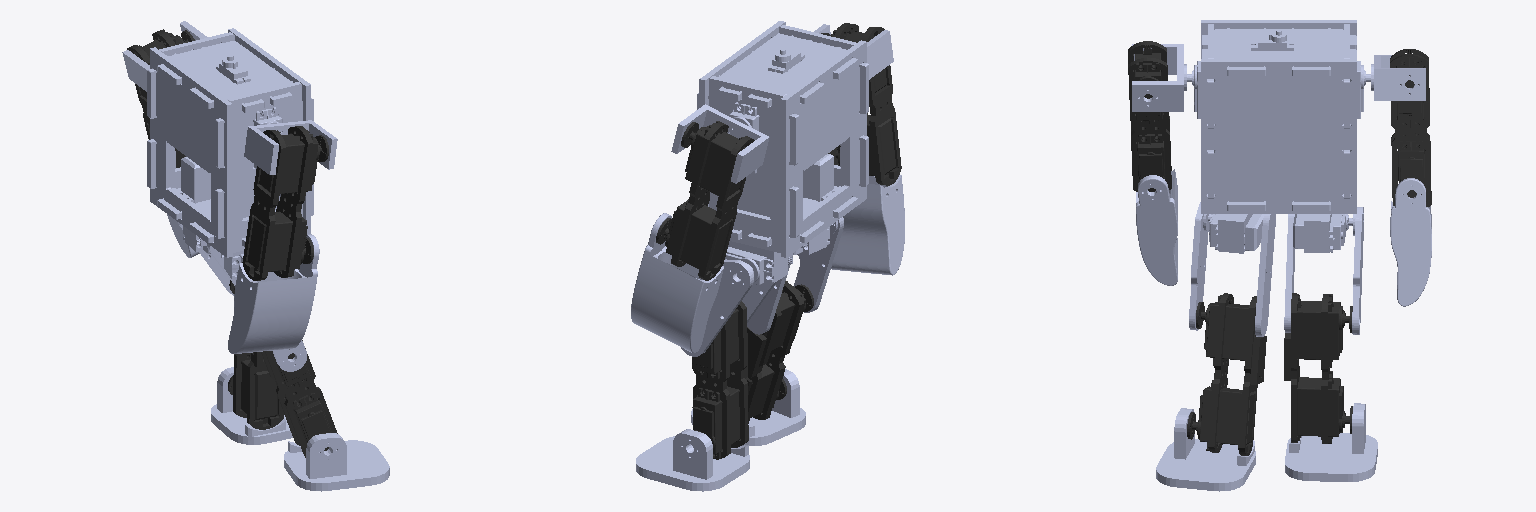
--- Facts derived from the render (not from the file) ---
The picture shows the robot from 3 angles, left to right: view 1: azimuth 30°, elevation 25°; view 2: azimuth 150°, elevation 25°; view 3: azimuth 270°, elevation 25°; orthographic projection.
Robot: body_urdf_files — 16 links, 15 joints (14 revolute, 1 fixed); root link world; default pose: every joint at zero.
Links seen in each view (by area): view 1: base_link, link_right_arm_2, link_right_arm_3, link_right_leg_4, link_right_leg_3, link_left_leg_3, link_left_leg_4, link_right_arm_1, link_left_arm_2, link_left_arm_1, link_right_leg_2, link_left_leg_2; view 2: base_link, link_left_arm_2, link_left_arm_3, link_left_leg_3, link_right_arm_3, link_left_leg_4, link_right_leg_3, link_right_arm_2, link_left_leg_2, link_right_leg_2, link_left_arm_1, link_right_leg_4 (+2 smaller); view 3: base_link, link_right_leg_3, link_left_leg_3, link_right_leg_4, link_left_leg_4, link_right_arm_2, link_left_arm_3, link_left_arm_2, link_right_arm_3, link_right_leg_2, link_right_arm_1, link_left_leg_1 (+3 smaller).
Link boxes in pixels (<box>): base_link: <box>147,28,313,257</box>; link_right_arm_2: <box>242,126,328,280</box>; link_right_arm_3: <box>228,234,319,353</box>; link_right_leg_4: <box>284,433,389,491</box>; link_right_leg_3: <box>261,340,337,457</box>; link_left_leg_3: <box>228,280,284,429</box>; link_left_leg_4: <box>211,367,292,444</box>; link_right_arm_1: <box>244,120,337,174</box>; link_left_arm_2: <box>127,29,194,167</box>; link_left_arm_1: <box>122,21,207,91</box>; link_right_leg_2: <box>236,279,306,371</box>; link_left_leg_2: <box>178,222,235,295</box>; base_link: <box>697,21,868,257</box>; link_left_arm_2: <box>656,121,754,280</box>; link_left_arm_3: <box>631,213,723,352</box>; link_left_leg_3: <box>692,301,748,459</box>; link_right_arm_3: <box>831,175,904,275</box>; link_left_leg_4: <box>636,429,749,491</box>; link_right_leg_3: <box>746,281,813,423</box>; link_right_arm_2: <box>821,23,901,185</box>; link_left_leg_2: <box>681,254,792,356</box>; link_right_leg_2: <box>747,217,843,334</box>; link_left_arm_1: <box>671,104,769,183</box>; link_right_leg_4: <box>691,369,805,445</box>; base_link: <box>1184,20,1373,213</box>; link_right_leg_3: <box>1187,293,1266,455</box>; link_left_leg_3: <box>1284,293,1352,443</box>; link_right_leg_4: <box>1156,408,1255,491</box>; link_left_leg_4: <box>1285,403,1377,481</box>; link_right_arm_2: <box>1128,41,1171,191</box>; link_left_arm_3: <box>1390,178,1431,306</box>; link_left_arm_2: <box>1390,49,1431,206</box>; link_right_arm_3: <box>1136,169,1177,285</box>; link_right_leg_2: <box>1189,202,1275,336</box>; link_right_arm_1: <box>1132,44,1183,111</box>; link_left_leg_1: <box>1293,214,1355,252</box>.
Bounding box of the posed robot: 0.1511 × 0.2345 × 0.3445 m (x, y, z).
15 mesh visuals loaded from 15 distinct referenced files (15 binary STL).

The robot description file, URDF, robot "body_urdf_files":
<?xml version="1.0" encoding="utf-8" ?>
<!-- This URDF was automatically created by SolidWorks to URDF Exporter! Originally created by Stephen Brawner ([email redacted]) 
     Commit Version: 1.6.0-4-g7f85cfe  Build Version: 1.6.7995.38578
     For more information, please see http://wiki.ros.org/sw_urdf_exporter -->
<robot name="body_urdf_files">
    <link name="world" />
    <!-- Fixed joint connecting base_link to world -->
    <joint name="base_world" type="fixed">
        <parent link="world" />
        <child link="base_link" />
        <origin xyz="0.0 0.0 0.2" rpy="0 0 0" />
    </joint>
    <link name="base_link">
        <inertial>
            <origin xyz="-0.11271 0.008711 0.082756" rpy="0 0 0" />
            <mass value="0.42184" />
            <inertia ixx="0.00054477" ixy="1.2005E-12" ixz="5.5825E-07" iyy="0.00040696" iyz="-3.7046E-08" izz="0.00034189" />
        </inertial>
        <visual>
            <origin xyz="0 0 0" rpy="0 0 0" />
            <geometry>
                <mesh filename="package://body_urdf_files/meshes/base_link.STL" />
            </geometry>
            <material name="">
                <color rgba="0.79216 0.81961 0.93333 1" />
            </material>
        </visual>
        <collision>
            <origin xyz="0 0 0" rpy="0 0 0" />
            <geometry>
                <mesh filename="package://body_urdf_files/meshes/base_link_collision.STL" />
            </geometry>
        </collision>
    </link>
    <link name="link_right_leg_1">
        <inertial>
            <origin xyz="0.00063243 0.0010516 -0.015001" rpy="0 0 0" />
            <mass value="0.045094" />
            <inertia ixx="6.95E-06" ixy="6.6322E-07" ixz="-1.7314E-14" iyy="1.0766E-05" iyz="-6.5247E-13" izz="1.417E-05" />
        </inertial>
        <visual>
            <origin xyz="0 0 0" rpy="0 0 0" />
            <geometry>
                <mesh filename="package://body_urdf_files/meshes/link_right_leg_1.STL" />
            </geometry>
            <material name="">
                <color rgba="0.79216 0.81961 0.93333 1" />
            </material>
        </visual>
        <collision>
            <origin xyz="0 0 0" rpy="0 0 0" />
            <geometry>
                <mesh filename="package://body_urdf_files/meshes/link_right_leg_1_collision.STL" />
            </geometry>
        </collision>
    </link>
    <joint name="joint_right_leg_1" type="revolute">
        <origin xyz="-0.1037 -0.021946 0.012166" rpy="0 0 3.1416" />
        <parent link="base_link" />
        <child link="link_right_leg_1" />
        <axis xyz="0 0 -1" />
        <limit lower="-1.57" upper="1.57" effort="0.9218" velocity="0.2" />
    </joint>
    <link name="link_right_leg_2">
        <inertial>
            <origin xyz="-0.0179411667908212 -0.0191465626137488 -0.0347537052405199" rpy="0 0 0" />
            <mass value="0.0235211183496437" />
            <inertia ixx="1.57759234089372E-05" ixy="6.36270538890195E-07" ixz="-4.58679749286696E-06" iyy="1.82616481047403E-05" iyz="1.10583812995229E-06" izz="2.8905282600421E-06" />
        </inertial>
        <visual>
            <origin xyz="0 0 0" rpy="0 0 0" />
            <geometry>
                <mesh filename="package://body_urdf_files/meshes/link_right_leg_2.STL" />
            </geometry>
            <material name="">
                <color rgba="0.792156862745098 0.819607843137255 0.933333333333333 1" />
            </material>
        </visual>
        <collision>
            <origin xyz="0 0 0" rpy="0 0 0" />
            <geometry>
                <mesh filename="package://body_urdf_files/meshes/link_right_leg_2_collision.STL" />
            </geometry>
        </collision>
    </link>
    <joint name="joint_right_leg_2" type="revolute">
        <origin xyz="0.016668 0.025401 -0.01725" rpy="0 0 0" />
        <parent link="link_right_leg_1" />
        <child link="link_right_leg_2" />
        <axis xyz="0.23438 0.97215 0" />
        <limit lower="-1.57" upper="1.57" effort="0.9218" velocity="0.2" />
    </joint>
    <link name="link_right_leg_3">
        <inertial>
            <origin xyz="-0.0201854124676288 -0.0252249251338612 -0.0401938897572681" rpy="0 0 0" />
            <mass value="0.0885710277412263" />
            <inertia ixx="3.60043673271805E-05" ixy="-5.74462834908742E-07" ixz="-7.42124531609947E-06" iyy="3.37601077925232E-05" iyz="1.78919945034082E-06" izz="1.63682608050573E-05" />
        </inertial>
        <visual>
            <origin xyz="0 0 0" rpy="0 0 0" />
            <geometry>
                <mesh filename="package://body_urdf_files/meshes/link_right_leg_3.STL" />
            </geometry>
            <material name="">
                <color rgba="0.250980392156863 0.250980392156863 0.250980392156863 1" />
            </material>
        </visual>
        <collision>
            <origin xyz="0 0 0" rpy="0 0 0" />
            <geometry>
                <mesh filename="package://body_urdf_files/meshes/link_right_leg_3_collision.STL" />
            </geometry>
        </collision>
    </link>
    <joint name="joint_right_leg_3" type="revolute">
        <origin xyz="-0.024254 0.0058474 -0.07164" rpy="0 0 0" />
        <parent link="link_right_leg_2" />
        <child link="link_right_leg_3" />
        <axis xyz="0.23438 0.97215 0" />
        <limit lower="-1.57" upper="1.57" effort="0.9218" velocity="0.2" />
    </joint>
    <link name="link_right_leg_4">
        <inertial>
            <origin xyz="0.015863 -0.018727 0.021827" rpy="0 0 0" />
            <mass value="0.043507" />
            <inertia ixx="1.92E-05" ixy="1.3179E-06" ixz="-2.293E-06" iyy="2.0588E-05" iyz="1.9775E-06" izz="3.3366E-05" />
        </inertial>
        <visual>
            <origin xyz="0 0 0" rpy="0 0 0" />
            <geometry>
                <mesh filename="package://body_urdf_files/meshes/link_right_leg_4.STL" />
            </geometry>
            <material name="">
                <color rgba="0.79216 0.81961 0.93333 1" />
            </material>
        </visual>
        <collision>
            <origin xyz="0 0 0" rpy="0 0 0" />
            <geometry>
                <mesh filename="package://body_urdf_files/meshes/link_right_leg_4_collision.STL" />
            </geometry>
        </collision>
    </link>
    <joint name="joint_right_leg_4" type="revolute">
        <origin xyz="-0.024947 0.015272 -0.081588" rpy="3.1416 0 3.1416" />
        <parent link="link_right_leg_3" />
        <child link="link_right_leg_4" />
        <axis xyz="-0.23438 0.97215 0" />
        <limit lower="-1.57" upper="1.57" effort="0.9218" velocity="0.2" />
    </joint>
    <link name="link_left_leg_1">
        <inertial>
            <origin xyz="0.000289531083426817 -0.00119245301812246 -0.0150006224241497" rpy="0 0 0" />
            <mass value="0.045093545635916" />
            <inertia ixx="6.91232751465115E-06" ixy="5.42705206394702E-07" ixz="-2.03242021535869E-13" iyy="1.0803797279876E-05" iyz="-6.35887197655272E-13" izz="1.41697361849742E-05" />
        </inertial>
        <visual>
            <origin xyz="0 0 0" rpy="0 0 0" />
            <geometry>
                <mesh filename="package://body_urdf_files/meshes/link_left_leg_1.STL" />
            </geometry>
            <material name="">
                <color rgba="0.792156862745098 0.819607843137255 0.933333333333333 1" />
            </material>
        </visual>
        <collision>
            <origin xyz="0 0 0" rpy="0 0 0" />
            <geometry>
                <mesh filename="package://body_urdf_files/meshes/link_left_leg_1_collision.STL" />
            </geometry>
        </collision>
    </link>
    <joint name="joint_left_leg_1" type="revolute">
        <origin xyz="-0.1037 0.039488 0.012166" rpy="0 0 3.1416" />
        <parent link="base_link" />
        <child link="link_left_leg_1" />
        <axis xyz="0 0 -1" />
        <limit lower="-1.57" upper="1.57" effort="0.9218" velocity="0.2" />
    </joint>
    <link name="link_left_leg_2">
        <inertial>
            <origin xyz="-0.019188 0.024151 -0.030739" rpy="0 0 0" />
            <mass value="0.023521" />
            <inertia ixx="1.2791E-05" ixy="3.7565E-07" ixz="-7.0887E-06" iyy="1.839E-05" iyz="4.7346E-07" izz="5.7474E-06" />
        </inertial>
        <visual>
            <origin xyz="0 0 0" rpy="0 0 0" />
            <geometry>
                <mesh filename="package://body_urdf_files/meshes/link_left_leg_2.STL" />
            </geometry>
            <material name="">
                <color rgba="0.79216 0.81961 0.93333 1" />
            </material>
        </visual>
        <collision>
            <origin xyz="0 0 0" rpy="0 0 0" />
            <geometry>
                <mesh filename="package://body_urdf_files/meshes/link_left_leg_2_collision.STL" />
            </geometry>
        </collision>
    </link>
    <joint name="joint_left_leg_2" type="revolute">
        <origin xyz="0.0083212 -0.02922 -0.01725" rpy="0 0 0" />
        <parent link="link_left_leg_1" />
        <child link="link_left_leg_2" />
        <axis xyz="0.066643 0.99778 0" />
        <limit lower="-1.57" upper="1.57" effort="0.9218" velocity="0.2" />
    </joint>
    <link name="link_left_leg_3">
        <inertial>
            <origin xyz="0.00261355430144429 0.0291439049418027 -0.0424629084715156" rpy="0 0 0" />
            <mass value="0.0885710279106685" />
            <inertia ixx="3.8718083970177E-05" ixy="-3.40398542135061E-07" ixz="3.90589175561294E-07" iyy="3.36443452169483E-05" iyz="-2.60878387824978E-08" izz="1.3770307002436E-05" />
        </inertial>
        <visual>
            <origin xyz="0 0 0" rpy="0 0 0" />
            <geometry>
                <mesh filename="package://body_urdf_files/meshes/link_left_leg_3.STL" />
            </geometry>
            <material name="">
                <color rgba="0.250980392156863 0.250980392156863 0.250980392156863 1" />
            </material>
        </visual>
        <collision>
            <origin xyz="0 0 0" rpy="0 0 0" />
            <geometry>
                <mesh filename="package://body_urdf_files/meshes/link_left_leg_3_collision.STL" />
            </geometry>
        </collision>
    </link>
    <joint name="joint_left_leg_3" type="revolute">
        <origin xyz="-0.040987 0.0027375 -0.063776" rpy="0 0 0" />
        <parent link="link_left_leg_2" />
        <child link="link_left_leg_3" />
        <axis xyz="0.066643 0.99778 0" />
        <limit lower="-1.57" upper="1.57" effort="0.9218" velocity="0.2" />
    </joint>
    <link name="link_left_leg_4">
        <inertial>
            <origin xyz="-0.0122739796083057 -0.0182225414807927 -0.021826744971205" rpy="0 0 0" />
            <mass value="0.0870145940816905" />
            <inertia ixx="3.9754670635112E-05" ixy="4.48152690031577E-09" ixz="-3.52336993284012E-06" iyy="3.98214690897593E-05" iyz="2.35329351813237E-07" izz="6.67325017223069E-05" />
        </inertial>
        <visual>
            <origin xyz="0 0 0" rpy="0 0 0" />
            <geometry>
                <mesh filename="package://body_urdf_files/meshes/link_left_leg_4.STL" />
            </geometry>
            <material name="">
                <color rgba="0.792156862745098 0.819607843137255 0.933333333333333 1" />
            </material>
        </visual>
        <collision>
            <origin xyz="0 0 0" rpy="0 0 0" />
            <geometry>
                <mesh filename="package://body_urdf_files/meshes/link_left_leg_4_collision.STL" />
            </geometry>
        </collision>
    </link>
    <joint name="joint_left_leg_4" type="revolute">
        <origin xyz="0.0013479 -9.0028E-05 -0.086194" rpy="0 0 0" />
        <parent link="link_left_leg_3" />
        <child link="link_left_leg_4" />
        <axis xyz="-0.066643 -0.99778 0" />
        <limit lower="-1.57" upper="1.57" effort="0.9218" velocity="0.2" />
    </joint>
    <link name="link_right_arm_1">
        <inertial>
            <origin xyz="0.00043229 0.013421 6.0742E-05" rpy="0 0 0" />
            <mass value="0.015438" />
            <inertia ixx="3.3686E-06" ixy="-9.3955E-08" ixz="-9.7163E-07" iyy="8.7062E-06" iyz="-1.3202E-08" izz="1.0147E-05" />
        </inertial>
        <visual>
            <origin xyz="0 0 0" rpy="0 0 0" />
            <geometry>
                <mesh filename="package://body_urdf_files/meshes/link_right_arm_1.STL" />
            </geometry>
            <material name="">
                <color rgba="0.79216 0.81961 0.93333 1" />
            </material>
        </visual>
        <collision>
            <origin xyz="0 0 0" rpy="0 0 0" />
            <geometry>
                <mesh filename="package://body_urdf_files/meshes/link_right_arm_1_collision.STL" />
            </geometry>
        </collision>
    </link>
    <joint name="joint_right_arm_1" type="revolute">
        <origin xyz="-0.11395 -0.064629 0.11681" rpy="0 0 3.1416" />
        <parent link="base_link" />
        <child link="link_right_arm_1" />
        <axis xyz="0 1 0" />
        <limit lower="-1.57" upper="1.57" effort="0.9218" velocity="0.2" />
    </joint>
    <link name="link_right_arm_2">
        <inertial>
            <origin xyz="0.0339602330058164 -0.00140695201636803 -0.0387802160392867" rpy="0 0 0" />
            <mass value="0.0843265047221693" />
            <inertia ixx="3.25873098555874E-05" ixy="1.14115097543406E-07" ixz="2.67119444403901E-06" iyy="3.8257358357345E-05" iyz="-8.12127143019655E-07" izz="1.39524623316252E-05" />
        </inertial>
        <visual>
            <origin xyz="0 0 0" rpy="0 0 0" />
            <geometry>
                <mesh filename="package://body_urdf_files/meshes/link_right_arm_2.STL" />
            </geometry>
            <material name="">
                <color rgba="0.250980392156863 0.250980392156863 0.250980392156863 1" />
            </material>
        </visual>
        <collision>
            <origin xyz="0 0 0" rpy="0 0 0" />
            <geometry>
                <mesh filename="package://body_urdf_files/meshes/link_right_arm_2_collision.STL" />
            </geometry>
        </collision>
    </link>
    <joint name="joint_right_arm_2" type="revolute">
        <origin xyz="-0.023568 0.0275 -0.0033117" rpy="0 0 0" />
        <parent link="link_right_arm_1" />
        <child link="link_right_arm_2" />
        <axis xyz="0.99027 0 0.13915" />
        <limit lower="-1.57" upper="1.57" effort="0.9218" velocity="0.2" />
    </joint>
    <link name="link_right_arm_3">
        <inertial>
            <origin xyz="0.024606 -0.0054508 -0.039884" rpy="0 0 0" />
            <mass value="0.034964" />
            <inertia ixx="2.2521E-05" ixy="5.7455E-07" ixz="4.2654E-06" iyy="3.1751E-05" iyz="-1.5469E-06" izz="1.7492E-05" />
        </inertial>
        <visual>
            <origin xyz="0 0 0" rpy="0 0 0" />
            <geometry>
                <mesh filename="package://body_urdf_files/meshes/link_right_arm_3.STL" />
            </geometry>
            <material name="">
                <color rgba="0.79216 0.81961 0.93333 1" />
            </material>
        </visual>
        <collision>
            <origin xyz="0 0 0" rpy="0 0 0" />
            <geometry>
                <mesh filename="package://body_urdf_files/meshes/link_right_arm_3_collision.STL" />
            </geometry>
        </collision>
    </link>
    <joint name="joint_right_arm_3" type="revolute">
        <origin xyz="0.011988 -0.0028598 -0.085319" rpy="0 0 0" />
        <parent link="link_right_arm_2" />
        <child link="link_right_arm_3" />
        <axis xyz="0.99027 0 0.13915" />
        <limit lower="-1.57" upper="1.57" effort="0.9218" velocity="0.2" />
    </joint>
    <link name="link_left_arm_1">
        <inertial>
            <origin xyz="0.00042348927780031 -0.0134210554645642 -0.000105920018624112" rpy="0 0 0" />
            <mass value="0.0154375276983831" />
            <inertia ixx="3.64724793651552E-06" ixy="9.20428943464276E-08" ixz="1.65980758563093E-06" iyy="8.70624786729584E-06" iyz="-2.30210907204673E-08" izz="9.868349574434E-06" />
        </inertial>
        <visual>
            <origin xyz="0 0 0" rpy="0 0 0" />
            <geometry>
                <mesh filename="package://body_urdf_files/meshes/link_left_arm_1.STL" />
            </geometry>
            <material name="">
                <color rgba="0.792156862745098 0.819607843137255 0.933333333333333 1" />
            </material>
        </visual>
        <collision>
            <origin xyz="0 0 0" rpy="0 0 0" />
            <geometry>
                <mesh filename="package://body_urdf_files/meshes/link_left_arm_1_collision.STL" />
            </geometry>
        </collision>
    </link>
    <joint name="joint_left_arm_1" type="revolute">
        <origin xyz="-0.11395 0.082171 0.11681" rpy="0 0 3.1416" />
        <parent link="base_link" />
        <child link="link_left_arm_1" />
        <axis xyz="0 -1 0" />
        <limit lower="-1.57" upper="1.57" effort="0.9218" velocity="0.2" />
    </joint>
    <link name="link_left_arm_2">
        <inertial>
            <origin xyz="0.0169216197295038 -0.000800020748780966 -0.0487052443915875" rpy="0 0 0" />
            <mass value="0.0843265053503444" />
            <inertia ixx="3.18202864891716E-05" ixy="-1.14665652317147E-07" ixz="-4.5673950934939E-06" iyy="3.82755476300154E-05" iyz="-4.58456093141091E-07" izz="1.47012967514871E-05" />
        </inertial>
        <visual>
            <origin xyz="0 0 0" rpy="0 0 0" />
            <geometry>
                <mesh filename="package://body_urdf_files/meshes/link_left_arm_2.STL" />
            </geometry>
            <material name="">
                <color rgba="0.250980392156863 0.250980392156863 0.250980392156863 1" />
            </material>
        </visual>
        <collision>
            <origin xyz="0 0 0" rpy="0 0 0" />
            <geometry>
                <mesh filename="package://body_urdf_files/meshes/link_left_arm_2_collision.STL" />
            </geometry>
        </collision>
    </link>
    <joint name="joint_left_arm_2" type="revolute">
        <origin xyz="-0.023089 -0.0275 0.0057748" rpy="0 0 0" />
        <parent link="link_left_arm_1" />
        <child link="link_left_arm_2" />
        <axis xyz="0.97012 0 -0.24264" />
        <limit lower="-1.57" upper="1.57" effort="0.9218" velocity="0.2" />
    </joint>
    <link name="link_left_arm_3">
        <inertial>
            <origin xyz="0.0077583625375509 0.000745387915609325 -0.0465328644527464" rpy="0 0 0" />
            <mass value="0.0349624152925252" />
            <inertia ixx="2.47787143663493E-05" ixy="-2.17214139362107E-09" ixz="1.29123950438143E-06" iyy="3.19173997790936E-05" iyz="-8.7165428009656E-08" izz="1.50664366292392E-05" />
        </inertial>
        <visual>
            <origin xyz="0 0 0" rpy="0 0 0" />
            <geometry>
                <mesh filename="package://body_urdf_files/meshes/link_left_arm_3.STL" />
            </geometry>
            <material name="">
                <color rgba="0.792156862745098 0.819607843137255 0.933333333333333 1" />
            </material>
        </visual>
        <collision>
            <origin xyz="0 0 0" rpy="0 0 0" />
            <geometry>
                <mesh filename="package://body_urdf_files/meshes/link_left_arm_3_collision.STL" />
            </geometry>
        </collision>
    </link>
    <joint name="joint_left_arm_3" type="revolute">
        <origin xyz="-0.020913 -0.0016473 -0.083613" rpy="0 0 0" />
        <parent link="link_left_arm_2" />
        <child link="link_left_arm_3" />
        <axis xyz="0.97012 0 -0.24264" />
        <limit lower="-1.57" upper="1.57" effort="0.9218" velocity="0.2" />
    </joint>
    <transmission name="link_right_leg_1">
        <type>transmission_interface/SimpleTransmission</type>
        <joint name="joint_right_leg_1">
            <hardwareInterface>hardware_interface/PositionJointInterface</hardwareInterface>
        </joint>
        <actuator name="motor_right_leg_1">
            <hardwareInterface>hardware_interface/PositionJointInterface</hardwareInterface>
            <mechanicalReduction>1</mechanicalReduction>
        </actuator>
    </transmission>
    <transmission name="link_right_leg_2">
        <type>transmission_interface/SimpleTransmission</type>
        <joint name="joint_right_leg_2">
            <hardwareInterface>hardware_interface/PositionJointInterface</hardwareInterface>
        </joint>
        <actuator name="motor_right_leg_2">
            <hardwareInterface>hardware_interface/PositionJointInterface</hardwareInterface>
            <mechanicalReduction>1</mechanicalReduction>
        </actuator>
    </transmission>
    <transmission name="link_right_leg_3">
        <type>transmission_interface/SimpleTransmission</type>
        <joint name="joint_right_leg_3">
            <hardwareInterface>hardware_interface/PositionJointInterface</hardwareInterface>
        </joint>
        <actuator name="motor_right_leg_3">
            <hardwareInterface>hardware_interface/PositionJointInterface</hardwareInterface>
            <mechanicalReduction>1</mechanicalReduction>
        </actuator>
    </transmission>
    <transmission name="link_right_leg_4">
        <type>transmission_interface/SimpleTransmission</type>
        <joint name="joint_right_leg_4">
            <hardwareInterface>hardware_interface/PositionJointInterface</hardwareInterface>
        </joint>
        <actuator name="motor_right_leg_4">
            <hardwareInterface>hardware_interface/PositionJointInterface</hardwareInterface>
            <mechanicalReduction>1</mechanicalReduction>
        </actuator>
    </transmission>
    <transmission name="link_left_leg_1">
        <type>transmission_interface/SimpleTransmission</type>
        <joint name="joint_left_leg_1">
            <hardwareInterface>hardware_interface/PositionJointInterface</hardwareInterface>
        </joint>
        <actuator name="motor_left_leg_1">
            <hardwareInterface>hardware_interface/PositionJointInterface</hardwareInterface>
            <mechanicalReduction>1</mechanicalReduction>
        </actuator>
    </transmission>
    <transmission name="link_left_leg_2">
        <type>transmission_interface/SimpleTransmission</type>
        <joint name="joint_left_leg_2">
            <hardwareInterface>hardware_interface/PositionJointInterface</hardwareInterface>
        </joint>
        <actuator name="motor_left_leg_2">
            <hardwareInterface>hardware_interface/PositionJointInterface</hardwareInterface>
            <mechanicalReduction>1</mechanicalReduction>
        </actuator>
    </transmission>
    <transmission name="link_left_leg_3">
        <type>transmission_interface/SimpleTransmission</type>
        <joint name="joint_left_leg_3">
            <hardwareInterface>hardware_interface/PositionJointInterface</hardwareInterface>
        </joint>
        <actuator name="motor_left_leg_3">
            <hardwareInterface>hardware_interface/PositionJointInterface</hardwareInterface>
            <mechanicalReduction>1</mechanicalReduction>
        </actuator>
    </transmission>
    <transmission name="link_left_leg_4">
        <type>transmission_interface/SimpleTransmission</type>
        <joint name="joint_left_leg_4">
            <hardwareInterface>hardware_interface/PositionJointInterface</hardwareInterface>
        </joint>
        <actuator name="motor_left_leg_4">
            <hardwareInterface>hardware_interface/PositionJointInterface</hardwareInterface>
            <mechanicalReduction>1</mechanicalReduction>
        </actuator>
    </transmission>
    <transmission name="link_right_arm_1">
        <type>transmission_interface/SimpleTransmission</type>
        <joint name="joint_right_arm_1">
            <hardwareInterface>hardware_interface/PositionJointInterface</hardwareInterface>
        </joint>
        <actuator name="motor_right_arm_1">
            <hardwareInterface>hardware_interface/PositionJointInterface</hardwareInterface>
            <mechanicalReduction>1</mechanicalReduction>
        </actuator>
    </transmission>
    <transmission name="link_right_arm_2">
        <type>transmission_interface/SimpleTransmission</type>
        <joint name="joint_right_arm_2">
            <hardwareInterface>hardware_interface/PositionJointInterface</hardwareInterface>
        </joint>
        <actuator name="motor_right_arm_2">
            <hardwareInterface>hardware_interface/PositionJointInterface</hardwareInterface>
            <mechanicalReduction>1</mechanicalReduction>
        </actuator>
    </transmission>
    <transmission name="link_right_arm_3">
        <type>transmission_interface/SimpleTransmission</type>
        <joint name="joint_right_arm_3">
            <hardwareInterface>hardware_interface/PositionJointInterface</hardwareInterface>
        </joint>
        <actuator name="motor_right_arm_3">
            <hardwareInterface>hardware_interface/PositionJointInterface</hardwareInterface>
            <mechanicalReduction>1</mechanicalReduction>
        </actuator>
    </transmission>
    <transmission name="link_left_arm_1">
        <type>transmission_interface/SimpleTransmission</type>
        <joint name="joint_left_arm_1">
            <hardwareInterface>hardware_interface/PositionJointInterface</hardwareInterface>
        </joint>
        <actuator name="motor_left_arm_1">
            <hardwareInterface>hardware_interface/PositionJointInterface</hardwareInterface>
            <mechanicalReduction>1</mechanicalReduction>
        </actuator>
    </transmission>
    <transmission name="link_left_arm_2">
        <type>transmission_interface/SimpleTransmission</type>
        <joint name="joint_left_arm_2">
            <hardwareInterface>hardware_interface/PositionJointInterface</hardwareInterface>
        </joint>
        <actuator name="motor_left_arm_2">
            <hardwareInterface>hardware_interface/PositionJointInterface</hardwareInterface>
            <mechanicalReduction>1</mechanicalReduction>
        </actuator>
    </transmission>
    <transmission name="link_left_arm_3">
        <type>transmission_interface/SimpleTransmission</type>
        <joint name="joint_left_arm_3">
            <hardwareInterface>hardware_interface/PositionJointInterface</hardwareInterface>
        </joint>
        <actuator name="motor_left_arm_3">
            <hardwareInterface>hardware_interface/PositionJointInterface</hardwareInterface>
            <mechanicalReduction>1</mechanicalReduction>
        </actuator>
    </transmission>
    <gazebo>
        <plugin name="gazebo_ros_control" filename="libgazebo_ros_control.so">
            <robotNamespace>/</robotNamespace>
        </plugin>
    </gazebo>
    <gazebo reference="link_left_leg_1">
        <selfCollide>true</selfCollide>
    </gazebo>
    <gazebo reference="link_left_leg_2">
        <selfCollide>true</selfCollide>
    </gazebo>
    <gazebo reference="link_left_leg_3">
        <selfCollide>true</selfCollide>
    </gazebo>
    <gazebo reference="link_left_leg_4">
        <selfCollide>true</selfCollide>
    </gazebo>
    <gazebo reference="link_right_leg_1">
        <selfCollide>true</selfCollide>
    </gazebo>
    <gazebo reference="link_right_leg_2">
        <selfCollide>true</selfCollide>
    </gazebo>
    <gazebo reference="link_right_leg_3">
        <selfCollide>true</selfCollide>
    </gazebo>
    <gazebo reference="link_right_leg_4">
        <selfCollide>true</selfCollide>
    </gazebo>
    <gazebo reference="link_left_arm_1">
        <selfCollide>true</selfCollide>
    </gazebo>
    <gazebo reference="link_left_arm_2">
        <selfCollide>true</selfCollide>
    </gazebo>
    <gazebo reference="link_left_arm_3">
        <selfCollide>true</selfCollide>
    </gazebo>
    <gazebo reference="link_right_arm_1">
        <selfCollide>true</selfCollide>
    </gazebo>
    <gazebo reference="link_right_arm_2">
        <selfCollide>true</selfCollide>
    </gazebo>
    <gazebo reference="link_right_arm_3">
        <selfCollide>true</selfCollide>
    </gazebo>
</robot>
